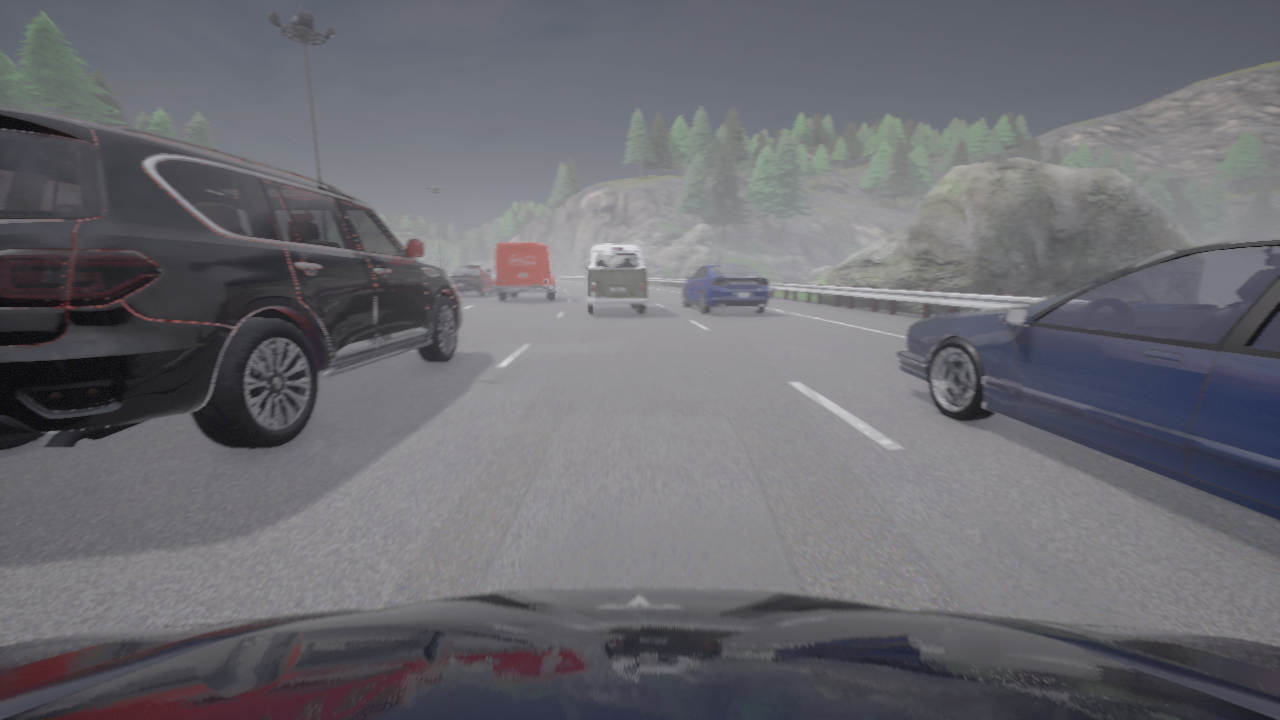cyclist: (0, 588, 1279, 719), (895, 234, 1279, 520), (583, 243, 647, 313), (683, 262, 769, 313), (494, 243, 557, 300), (449, 265, 492, 296)
